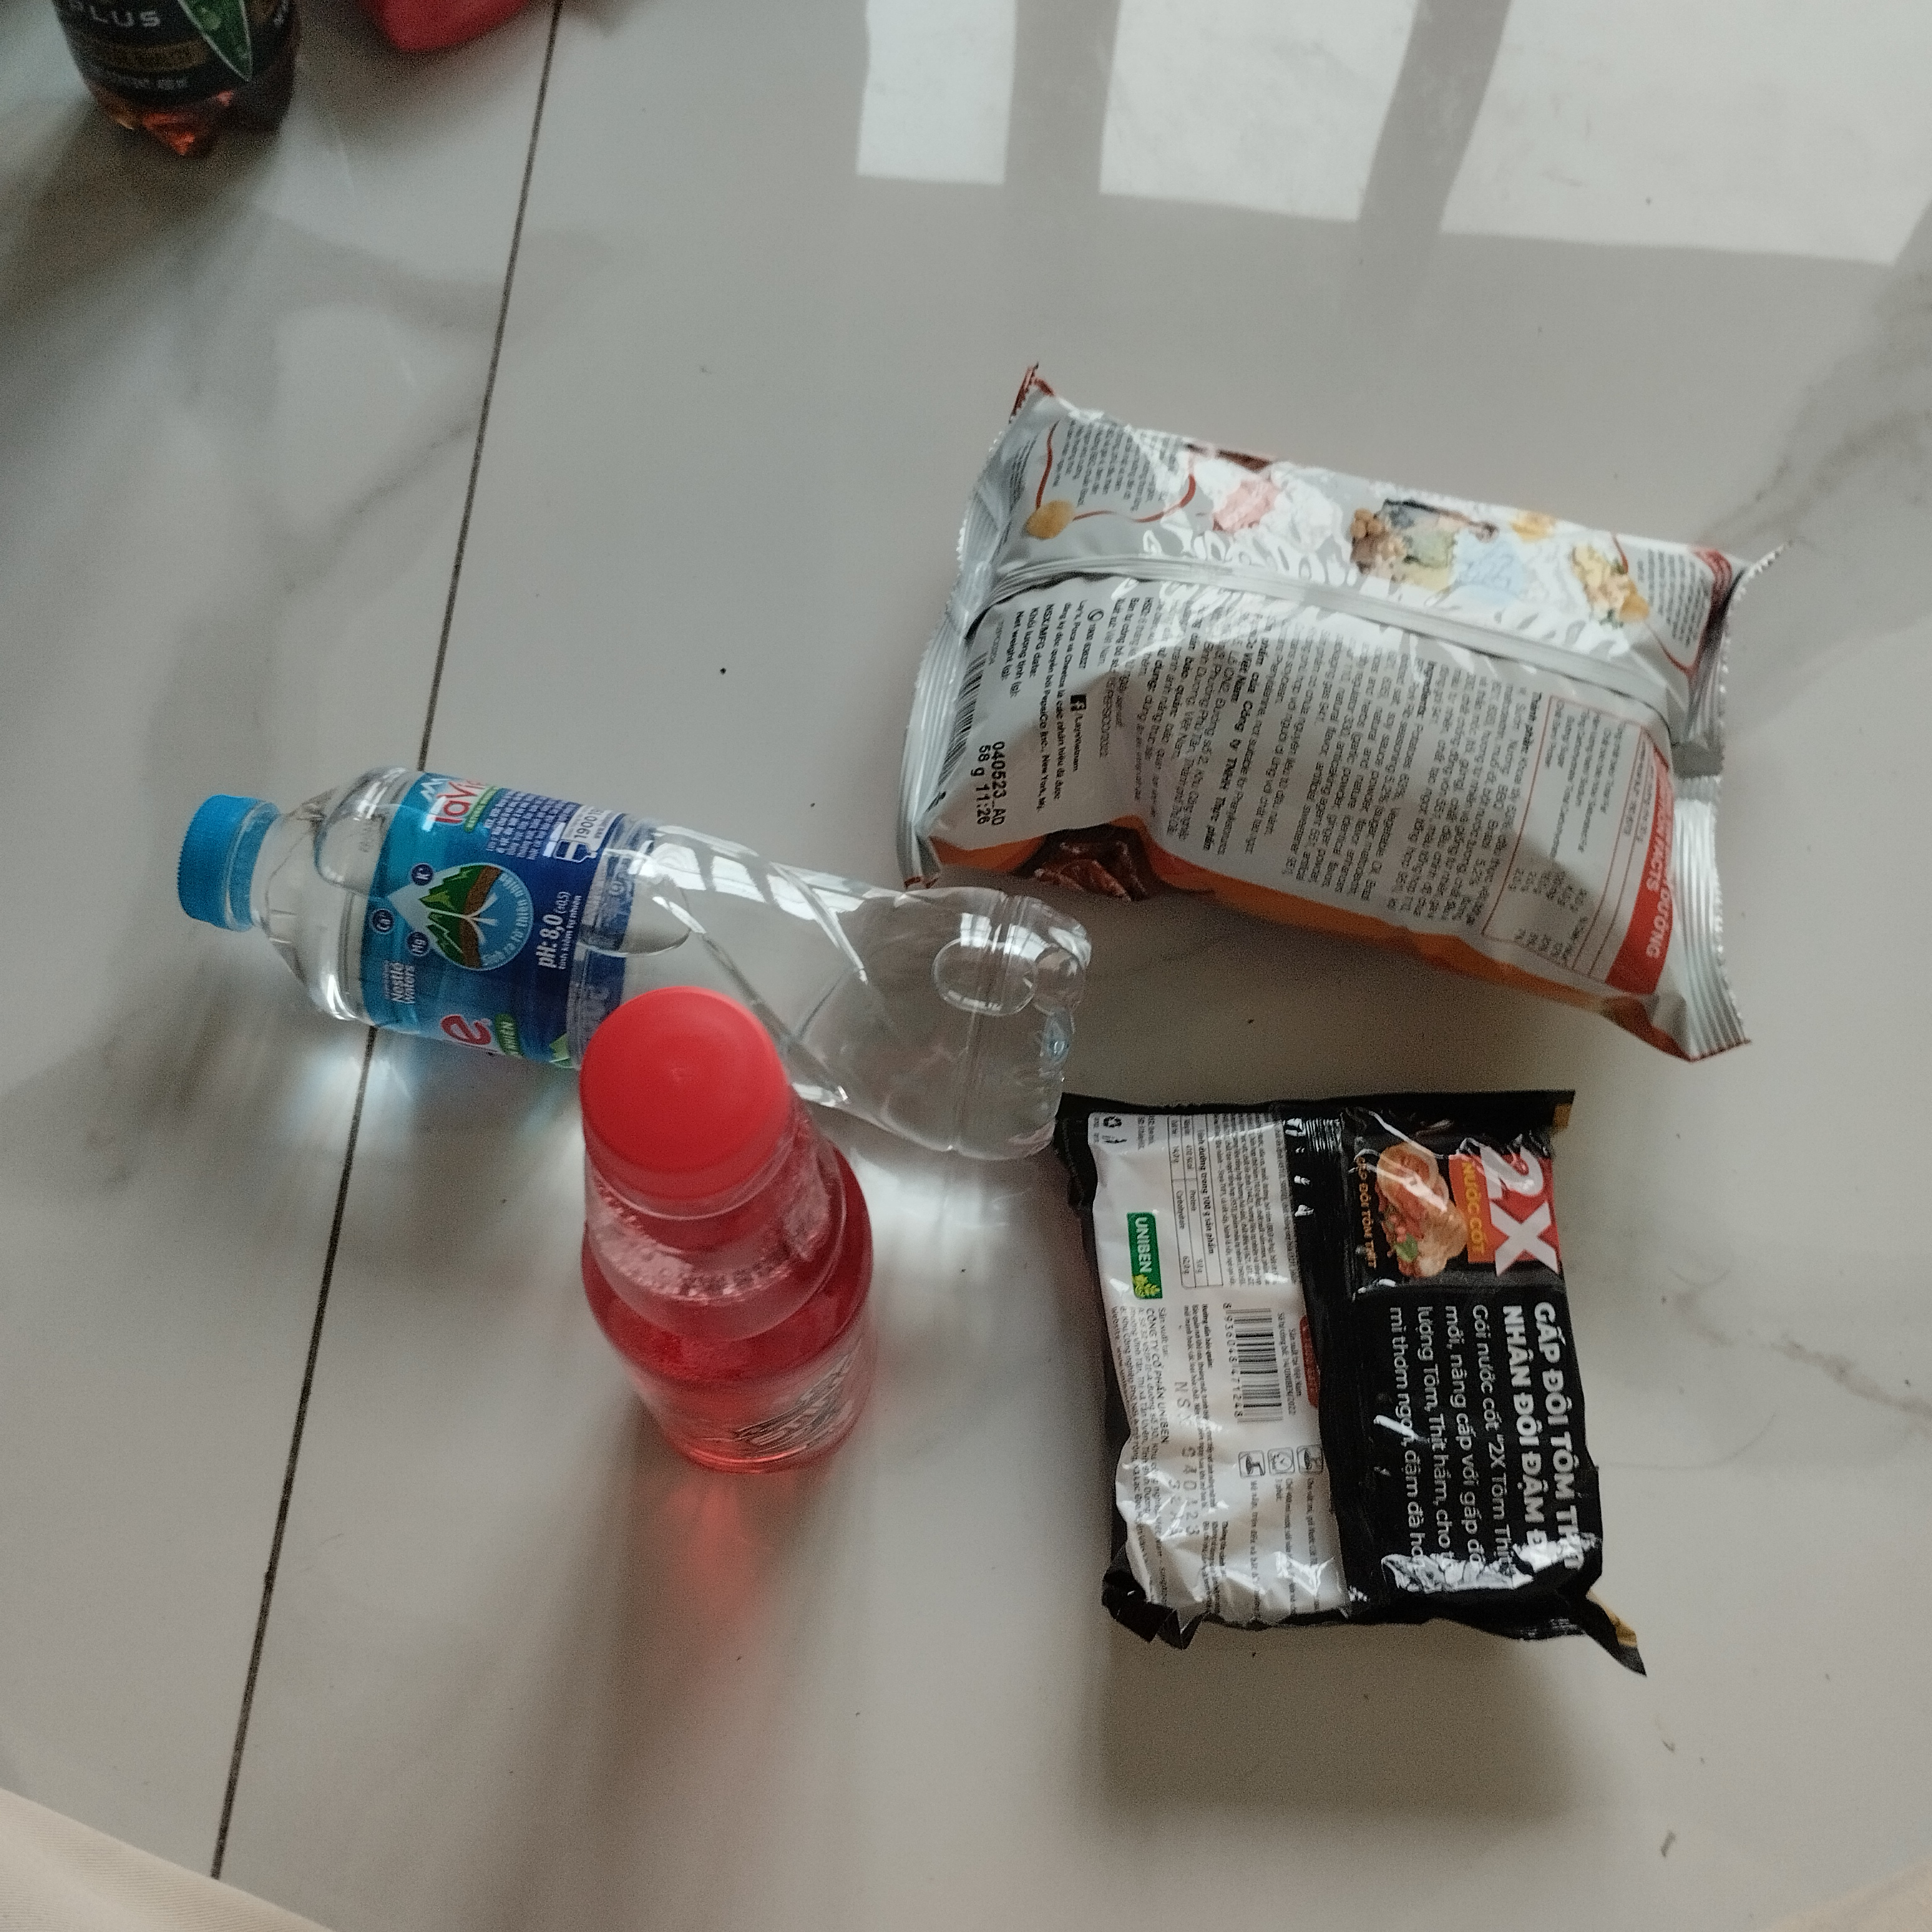3mien: (1044, 1074, 1679, 1697)
Lavie: (157, 732, 1092, 1175)
Lays: (885, 357, 1783, 1088)
Sting: (550, 978, 879, 1502)
